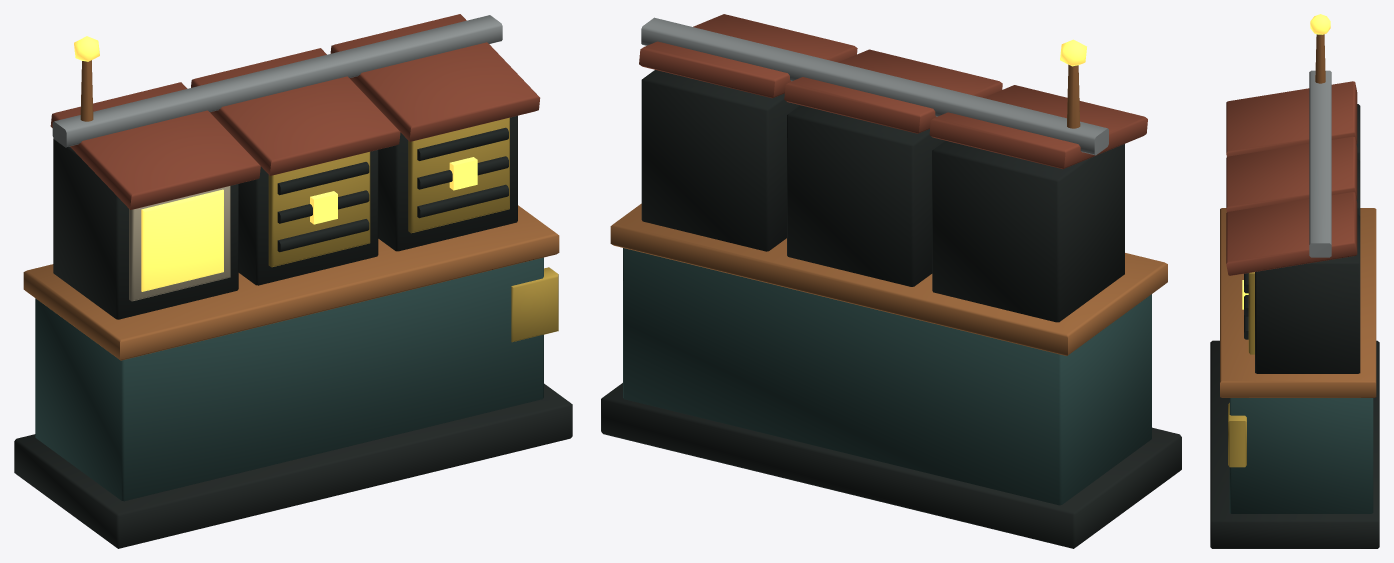
File: station_tri_terminal.glb
3 renders of one model, left to right at view 1: azimuth 30°, elevation 25°; view 2: azimuth 150°, elevation 25°; view 3: azimuth 270°, elevation 25°, orthographic. The views are drawn at different scales.
Visible parts, largest first — view 1: station_tri_terminal_mesh; view 2: station_tri_terminal_mesh; view 3: station_tri_terminal_mesh.
Part boxes in pixels (box(x1,y1,x2,y2)): station_tri_terminal_mesh: box(14, 14, 572, 548); station_tri_terminal_mesh: box(601, 14, 1181, 548); station_tri_terminal_mesh: box(1210, 14, 1379, 548).
Bounding box in the file's own units: 2.68 × 2.56 × 1.06.
